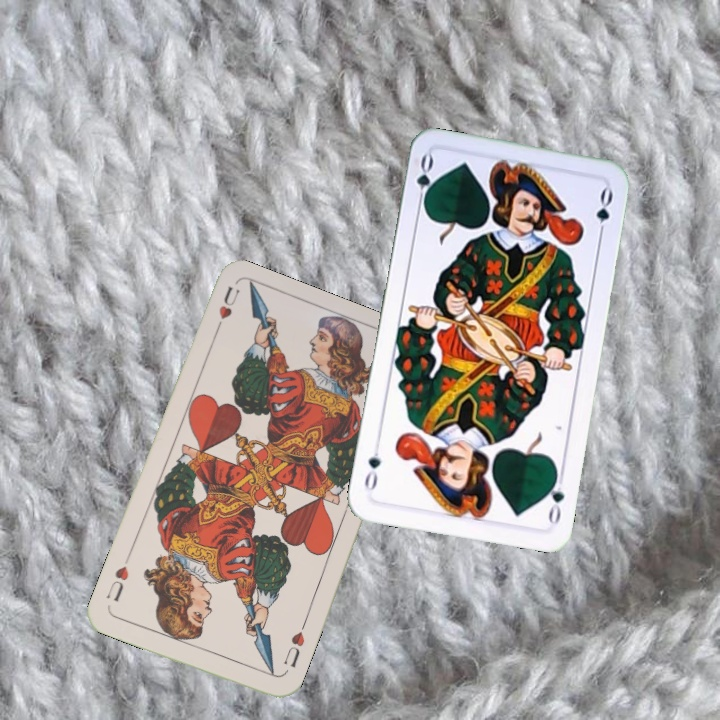GO: (542, 468, 567, 527), (412, 151, 436, 211)
HU: (210, 282, 243, 339), (279, 627, 307, 670)
